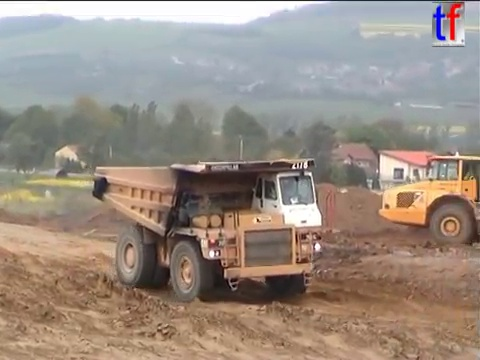truck: (88, 156, 338, 303), (376, 150, 480, 251)
